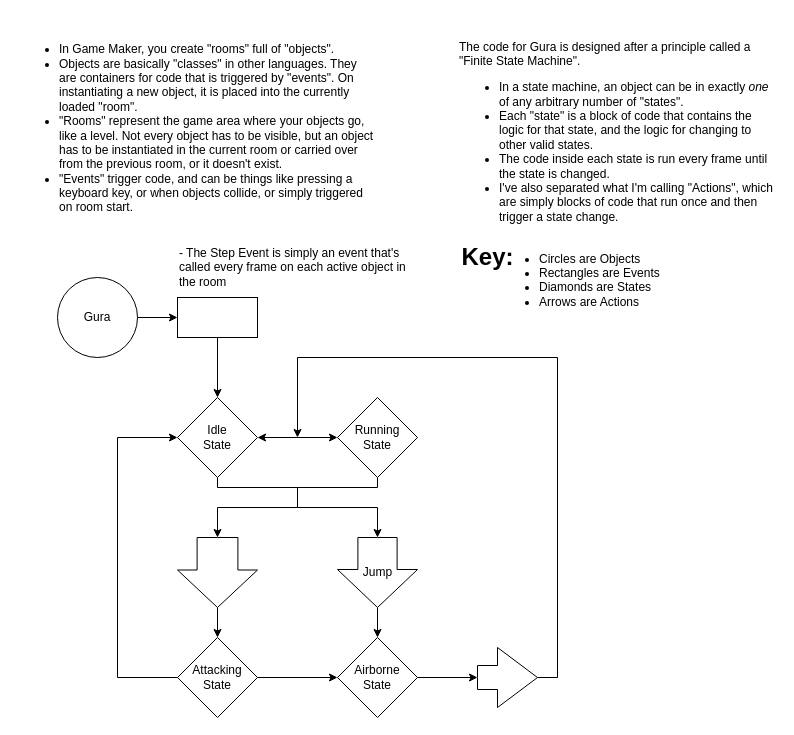
Image size: 794x735. Some labels were removed from this diagram. The box of each missing label's shape, as (x1, y1, x2, y2) in pixels:
Attack: (176, 536, 258, 608)
Land: (476, 646, 538, 708)
Step Event: (176, 296, 258, 338)
